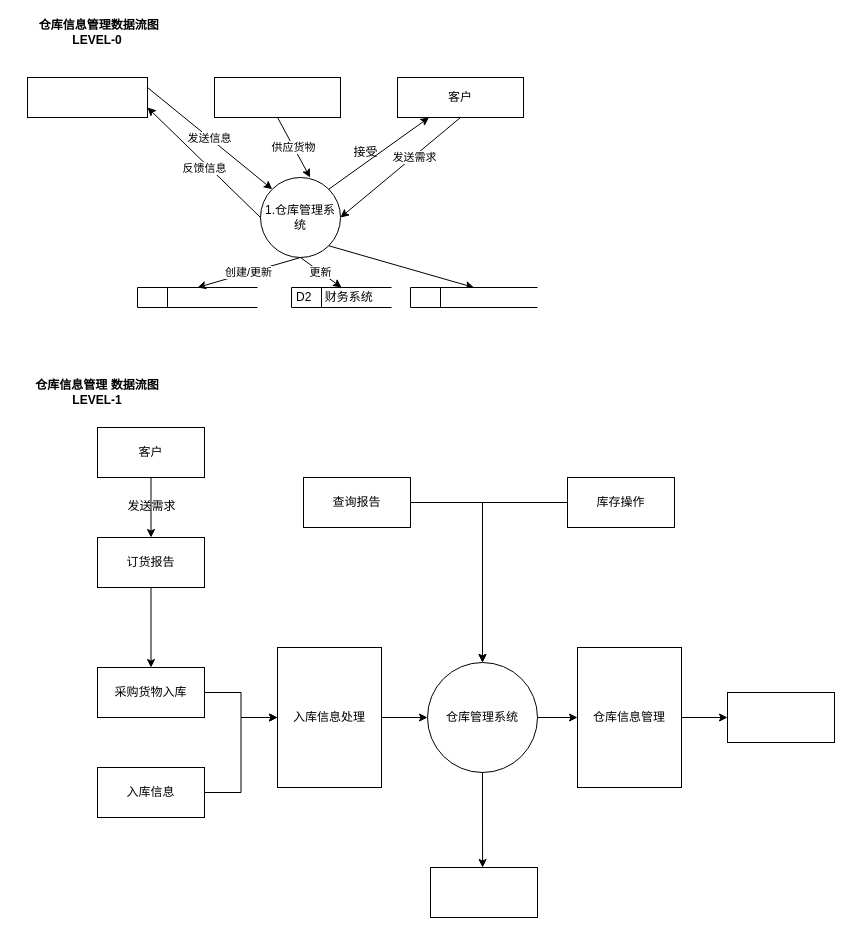
Some shapes in this 852 by 935 pixel diagram are drawn without their labels. Here are the shapes that lost their labels. From the top down, the centre of each, then its label:
At [87,97]: "管理员".
At [277,97]: "供应商".
At [197,297]: "D1 仓库信息数据库".
At [474,297]: "D3 客户订单数据库".
At [780,717]: "出库信息表".
At [484,892]: "库存报表".
